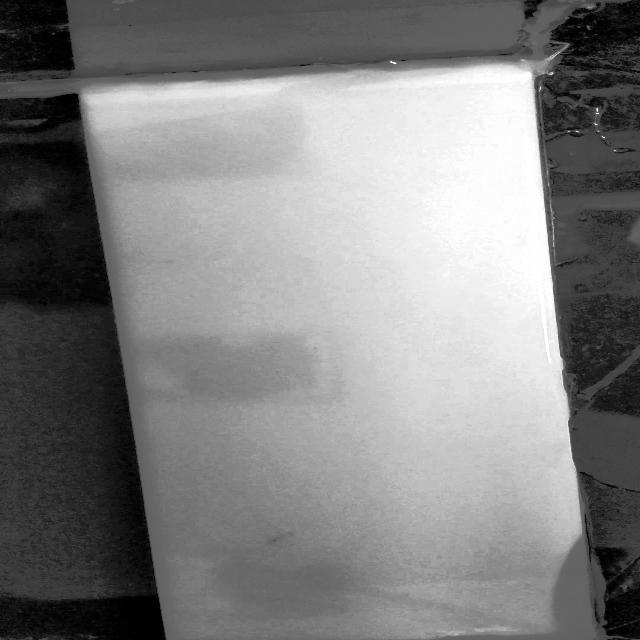shrimp: (256, 532, 288, 550)
